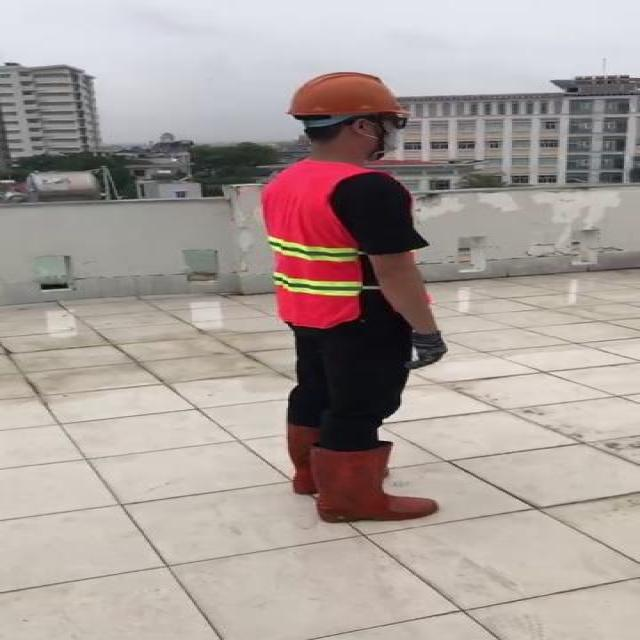boots: (308, 441, 436, 523)
hand_glove: (407, 327, 461, 375)
head_helmet: (283, 70, 401, 116)
person: (233, 67, 469, 531)
vest: (258, 157, 377, 328)
